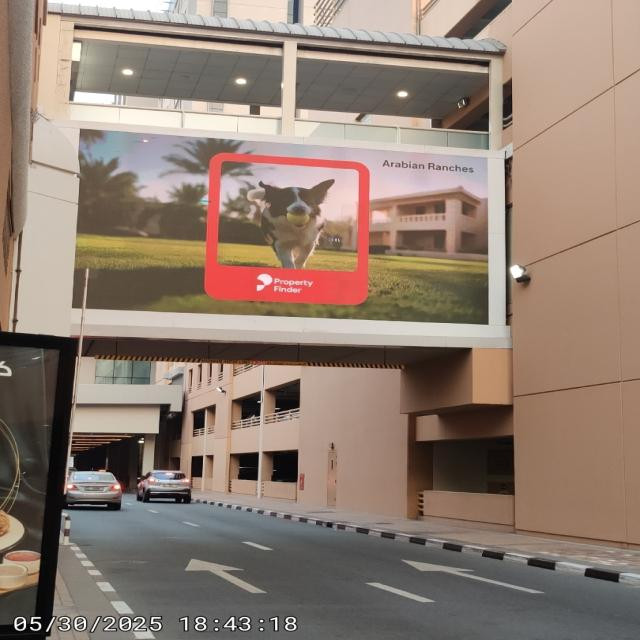digital-board-big: (74, 123, 499, 336)
